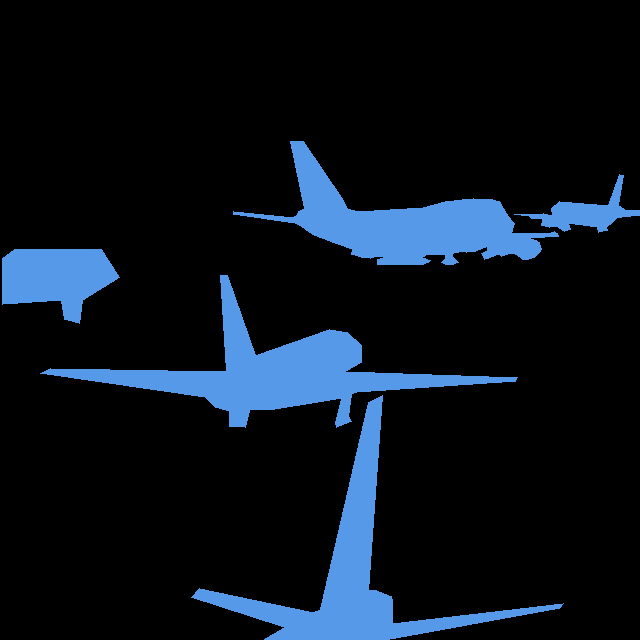Airplane: (191, 395, 563, 640), (40, 275, 518, 427), (233, 141, 558, 264), (2, 249, 120, 324), (514, 174, 640, 232)
